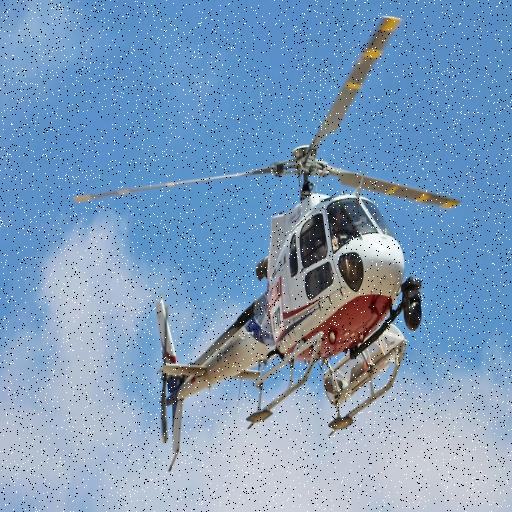helicopter: (68, 9, 471, 482)
